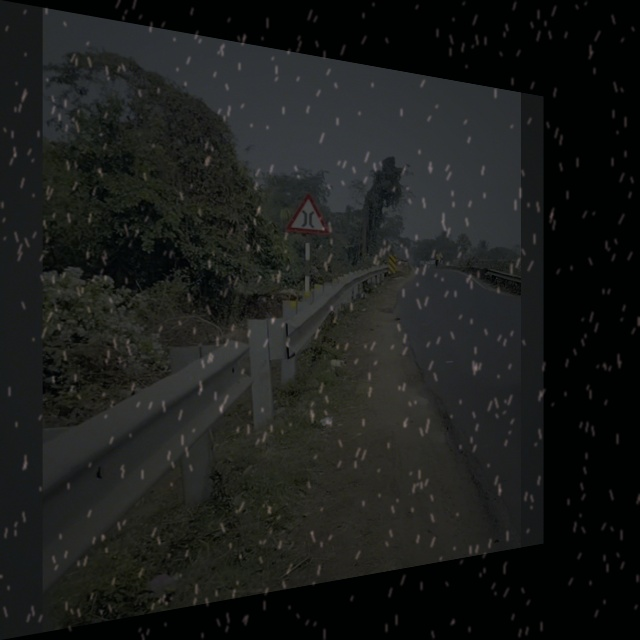Narrow_Bridge: (287, 191, 329, 235)
